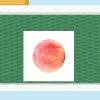raw: (31, 38, 66, 75)
